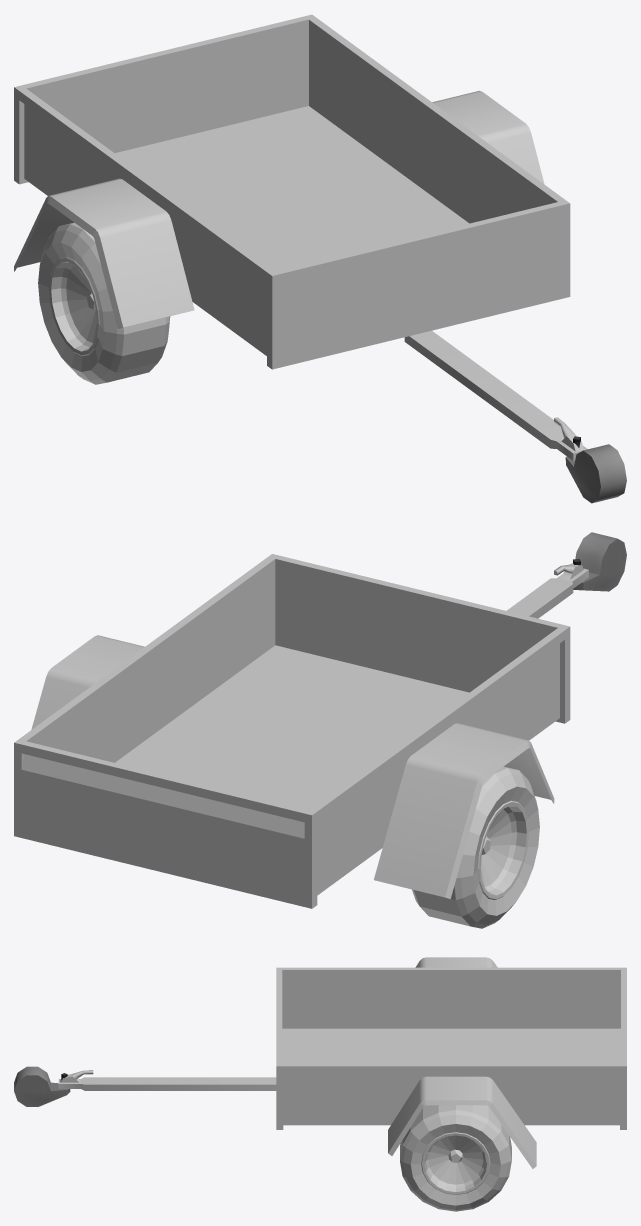
The model's file is Trailer.fbx.
3 renders of one model, top to bottom at view 1: azimuth 30°, elevation 25°; view 2: azimuth 150°, elevation 25°; view 3: azimuth 270°, elevation 25°, orthographic. The views are drawn at different scales.
Parts seen in each view (by area): view 1: trailer, TrailerWheelR, TrailerJoint; view 2: trailer, TrailerWheelR, TrailerJoint; view 3: trailer, TrailerWheelL, TrailerJoint.
Part boxes in pixels (x1,y1,x2,y2): trailer: (14, 14, 587, 460); TrailerWheelR: (38, 222, 170, 384); TrailerJoint: (565, 436, 626, 503); trailer: (14, 554, 588, 908); TrailerWheelR: (412, 766, 539, 928); TrailerJoint: (573, 532, 626, 591); trailer: (58, 957, 626, 1168); TrailerWheelL: (400, 1105, 511, 1211); TrailerJoint: (14, 1066, 70, 1106).
Bounding box in the file's own units: 1.99 × 0.8096 × 3.56.
